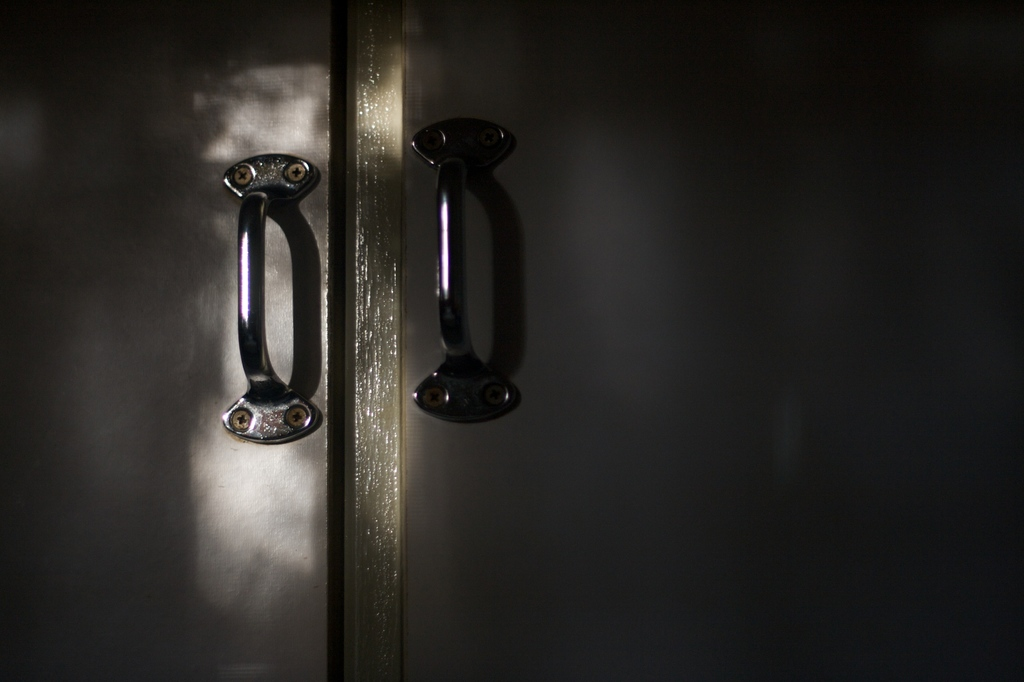cabinet door: (411, 10, 1005, 682), (7, 5, 329, 658)
handle: (408, 103, 519, 429), (215, 154, 317, 442)
